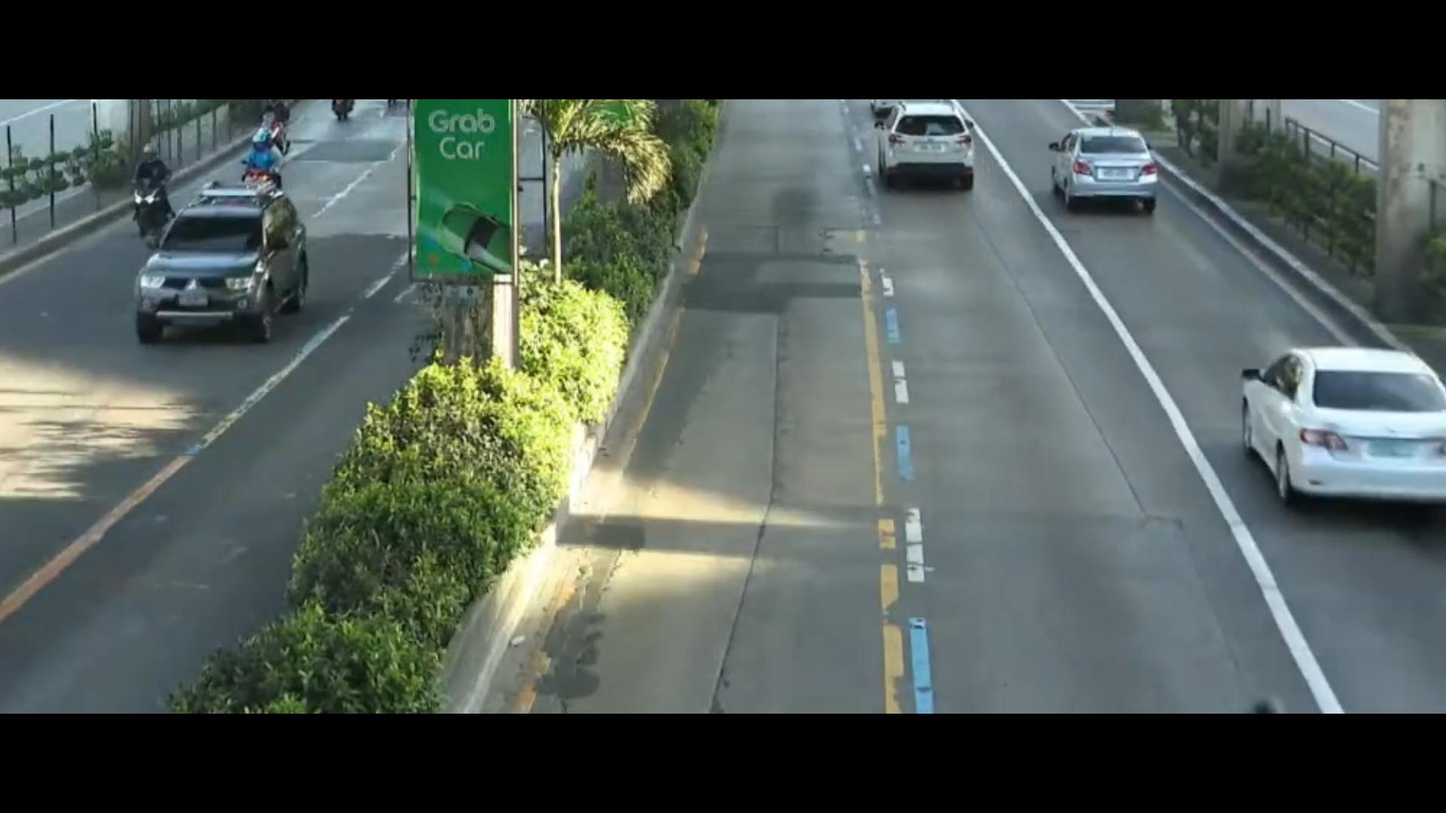Motorcycle: (108, 132, 179, 254), (239, 123, 298, 208)
SUV: (116, 194, 352, 364), (861, 110, 989, 202)
Sedan: (1194, 318, 1446, 517), (1048, 120, 1158, 232)
